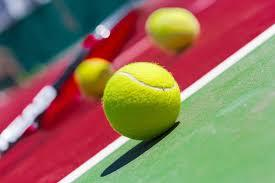ball_tennis: (102, 61, 181, 141), (145, 7, 201, 55), (74, 57, 113, 100)
